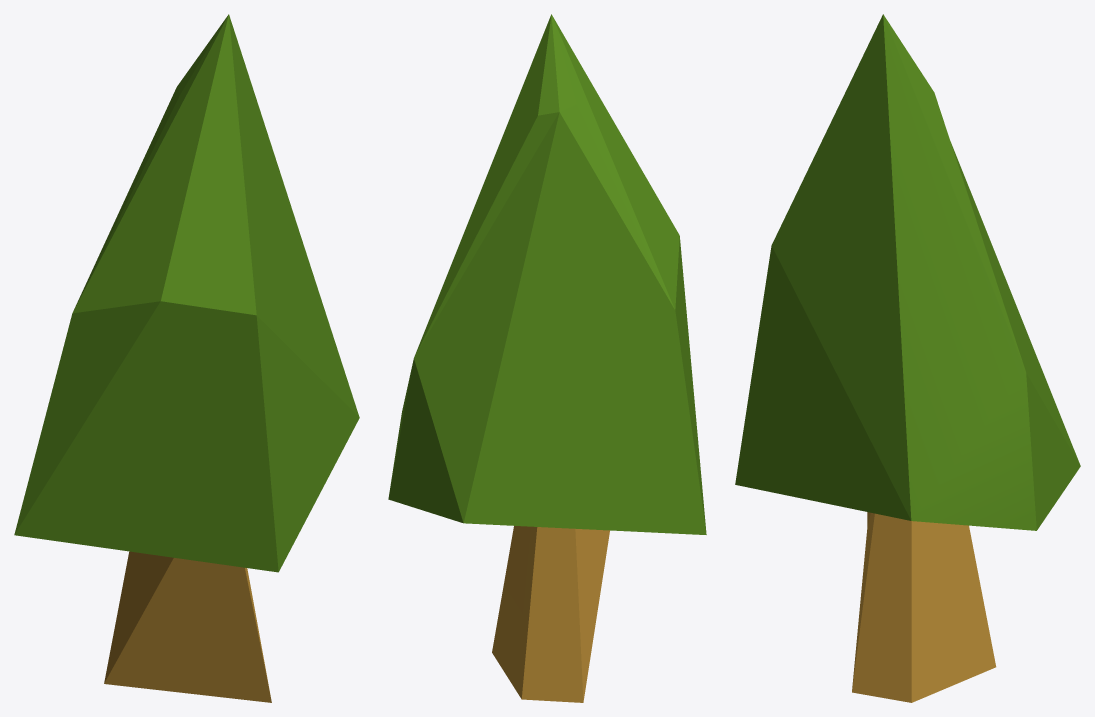
The model's file is tree-lod.glb.
The picture shows the model from 3 angles, left to right: view 1: azimuth 30°, elevation 25°; view 2: azimuth 150°, elevation 25°; view 3: azimuth 270°, elevation 25°; orthographic projection. The views are drawn at different scales.
Parts seen in each view (by area): view 1: Circle.001; view 2: Circle.001; view 3: Circle.001.
Boxes of the visible parts, x1,y1,x2,y2 form: Circle.001: [14, 14, 359, 702]; Circle.001: [388, 14, 706, 702]; Circle.001: [735, 14, 1080, 702].
Bounding box in the file's own units: 63.5 × 124 × 58.19.
